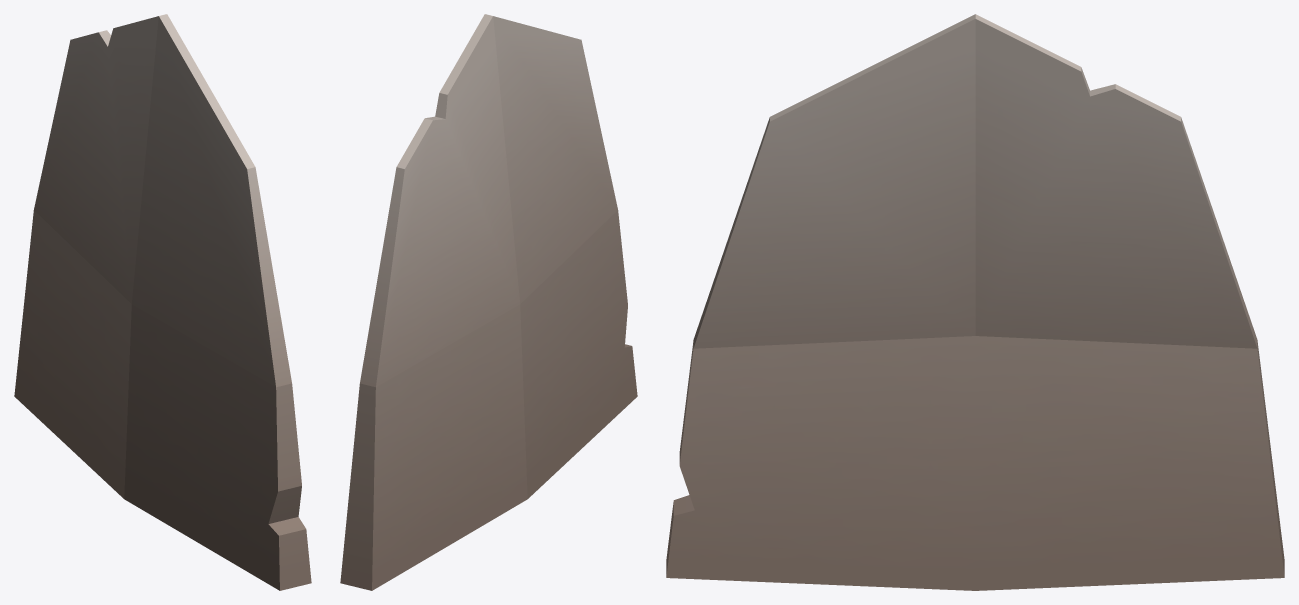
File: spadeHead.fbx
3 views of the same model, side by side, from view 1: azimuth 30°, elevation 25°; view 2: azimuth 150°, elevation 25°; view 3: azimuth 270°, elevation 25° (orthographic). The views are drawn at different scales.
Parts seen in each view (by area): view 1: Spade.001; view 2: Spade.001; view 3: Spade.001.
Part boxes in pixels (bbox=[...]): Spade.001: bbox=[14, 14, 311, 590]; Spade.001: bbox=[340, 14, 637, 590]; Spade.001: bbox=[666, 14, 1284, 590].
Bounding box in the file's own units: 16.75 × 98.19 × 99.56.
